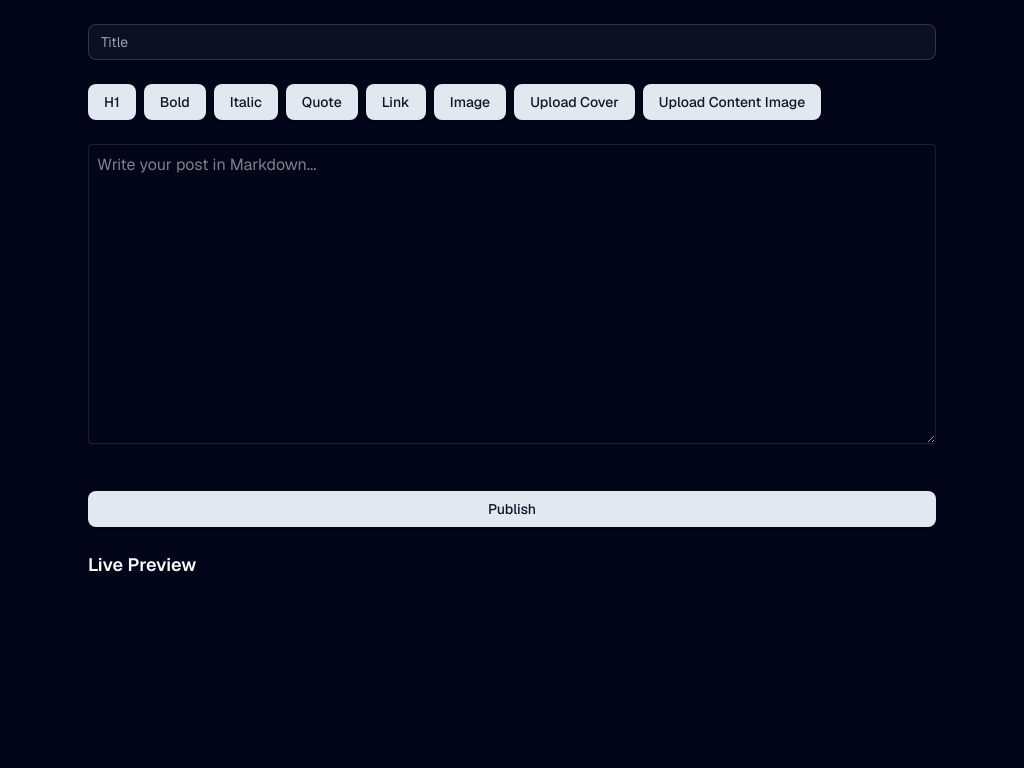
Test case: CreatePostPage › closes modal when Close button is clicked
Click the button "Publish": (512, 509) [88,491,936,527]
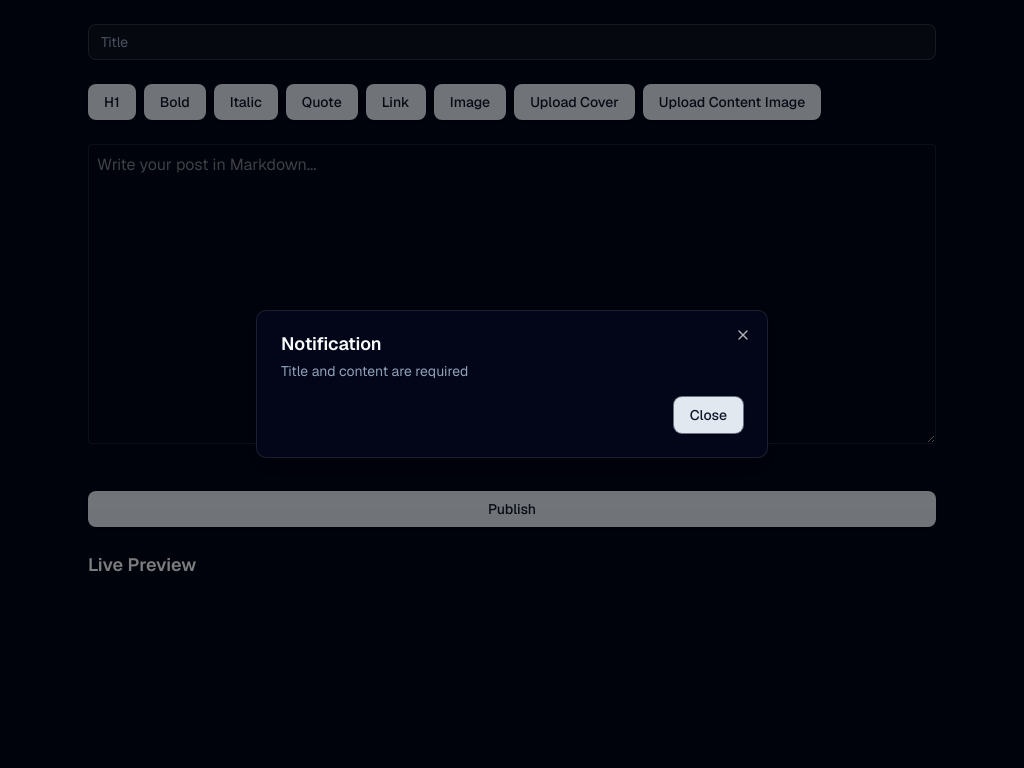
Result: the dialog is shown at [256,310,768,458]
Click the button named "Close": (743, 335) [735,327,751,343]
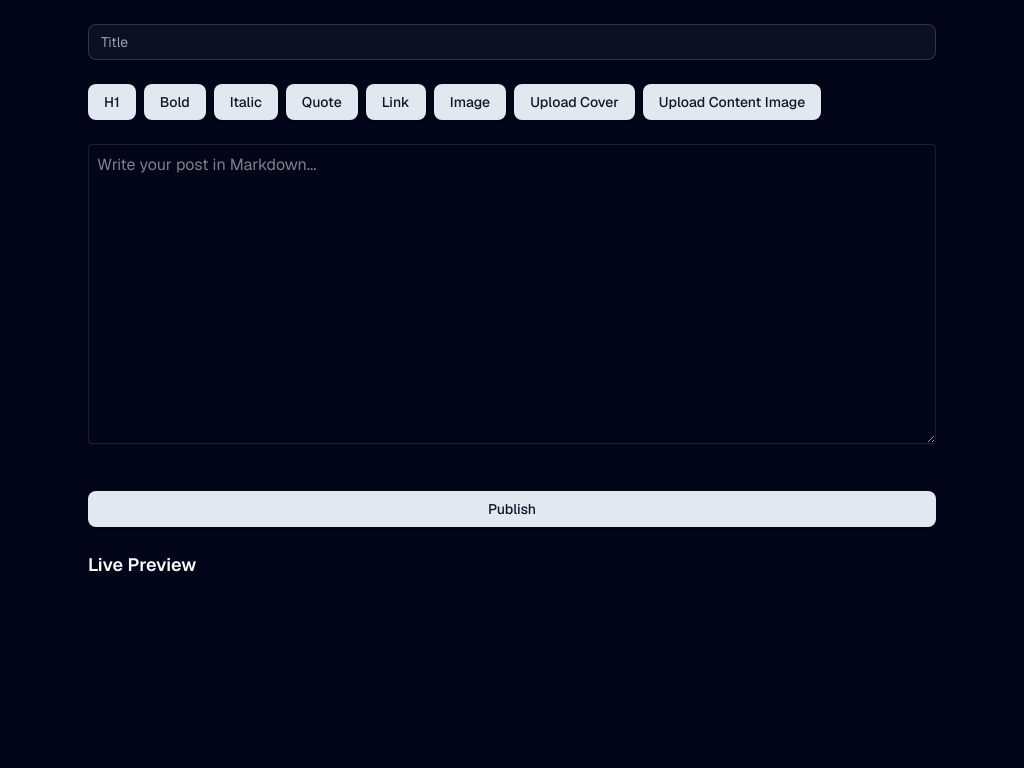
Result: the dialog is gone
